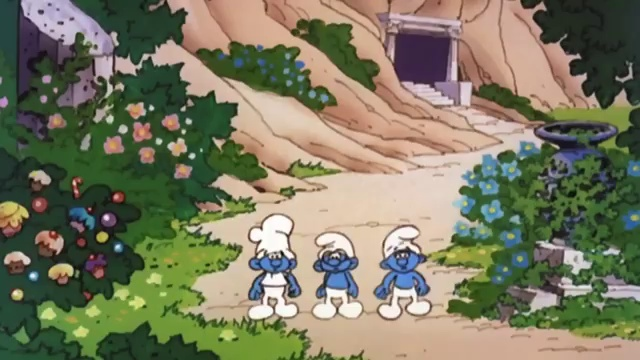smurf: (245, 212, 302, 322), (370, 224, 431, 322), (311, 225, 366, 323)
